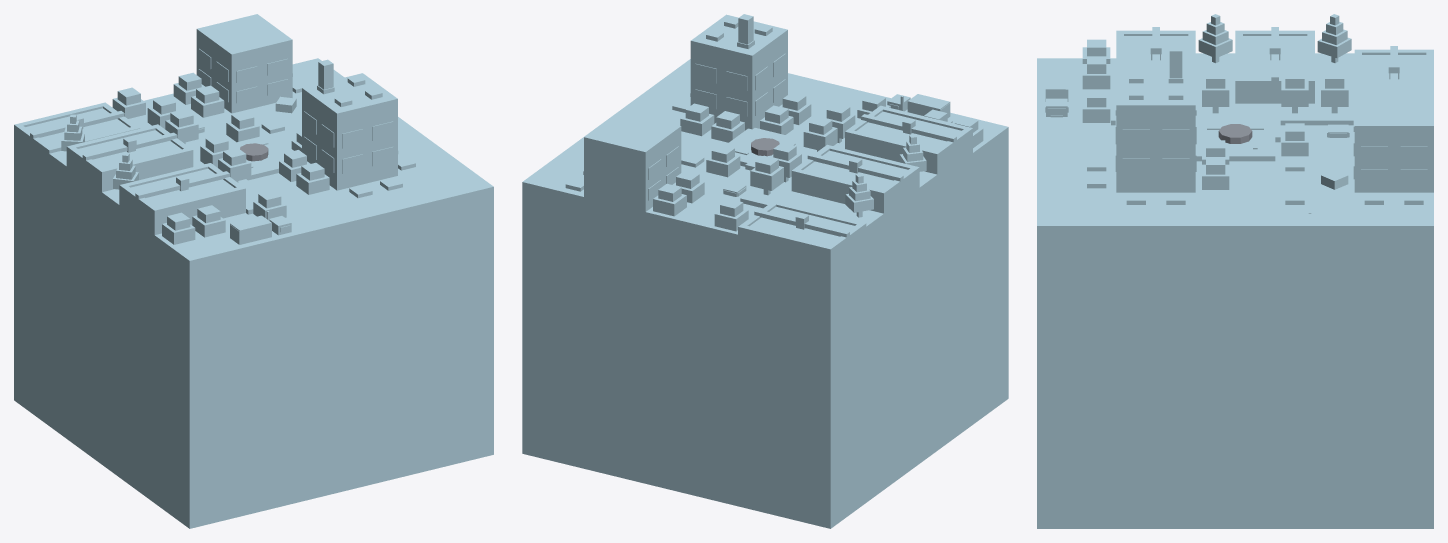
Rendered from block_12_undergroundtanks_100.glb.
3 views of the same model, side by side, from view 1: azimuth 30°, elevation 25°; view 2: azimuth 150°, elevation 25°; view 3: azimuth 270°, elevation 25° (orthographic). The views are drawn at different scales.
Parts seen in each view (by area): view 1: Patch_LowerLeft_b11_UT, Factories_LowerLeft_b11_UT, Tanks_LowerLeft_UT, Roads_LowerLeft_b11_UT, Ground_LowerLeft_b11_UT, Asset_Truck.006_UT, Asset_Tree_Round.075_UT, Asset_Tree_Round.103_UT, Asset_Tree_Round.106_UT, Asset_Tree_Round.107_UT, Asset_Tree_Round.100_UT, Asset_Tree_Round.080_UT (+9 smaller); view 2: Patch_LowerLeft_b11_UT, Factories_LowerLeft_b11_UT, Tanks_LowerLeft_UT, Ground_LowerLeft_b11_UT, Roads_LowerLeft_b11_UT, Asset_Truck.006_UT, Asset_Tree_Round.078_UT, Asset_Tree_Round.090_UT, Asset_Tree_Round.081_UT, Asset_Tree_Round.073_UT, Asset_Tree_Round.092_UT, Asset_Tree_Round.072_UT (+8 smaller); view 3: Patch_LowerLeft_b11_UT, Factories_LowerLeft_b11_UT, Tanks_LowerLeft_UT, Ground_LowerLeft_b11_UT, Roads_LowerLeft_b11_UT, Asset_Truck.006_UT, Asset_Tree_Pine.001_UT, Asset_Tree_Pine.003_UT, Asset_Tree_Round.078_UT, Asset_Tree_Round.090_UT, Asset_Tree_Round.080_UT, Asset_Tree_Round.107_UT (+6 smaller).
Part boxes in pixels (x1,y1,x2,y2): Patch_LowerLeft_b11_UT: (14,58,493,528); Factories_LowerLeft_b11_UT: (196,14,397,190); Tanks_LowerLeft_UT: (14,102,245,254); Roads_LowerLeft_b11_UT: (172,134,493,277); Ground_LowerLeft_b11_UT: (49,140,293,263); Asset_Truck.006_UT: (230,211,291,244); Asset_Tree_Round.075_UT: (191,85,224,117); Asset_Tree_Round.103_UT: (296,162,329,194); Asset_Tree_Round.106_UT: (162,212,195,244); Asset_Tree_Round.107_UT: (192,205,225,237); Asset_Tree_Round.100_UT: (218,148,251,182); Asset_Tree_Round.080_UT: (165,109,198,143); Patch_LowerLeft_b11_UT: (522,59,1008,528); Factories_LowerLeft_b11_UT: (584,14,787,232); Tanks_LowerLeft_UT: (738,105,972,277); Ground_LowerLeft_b11_UT: (553,117,937,250); Roads_LowerLeft_b11_UT: (522,135,1008,243); Asset_Truck.006_UT: (887,94,950,117); Asset_Tree_Round.078_UT: (750,155,783,195); Asset_Tree_Round.090_UT: (803,116,837,151); Asset_Tree_Round.081_UT: (706,144,740,177); Asset_Tree_Round.073_UT: (653,183,686,216); Asset_Tree_Round.092_UT: (680,103,714,136); Asset_Tree_Round.072_UT: (714,198,748,231); Patch_LowerLeft_b11_UT: (1037,58,1433,528); Factories_LowerLeft_b11_UT: (1115,46,1433,192); Tanks_LowerLeft_UT: (1116,27,1433,103); Ground_LowerLeft_b11_UT: (1111,53,1354,161); Roads_LowerLeft_b11_UT: (1037,120,1433,263); Asset_Truck.006_UT: (1045,71,1068,117); Asset_Tree_Pine.001_UT: (1198,14,1232,63); Asset_Tree_Pine.003_UT: (1317,14,1351,62); Asset_Tree_Round.078_UT: (1321,71,1348,113); Asset_Tree_Round.090_UT: (1202,71,1229,113); Asset_Tree_Round.080_UT: (1281,71,1308,113); Asset_Tree_Round.107_UT: (1082,56,1110,89).
Size of the model in its own units: 9.5 by 11.13 by 9.5.
